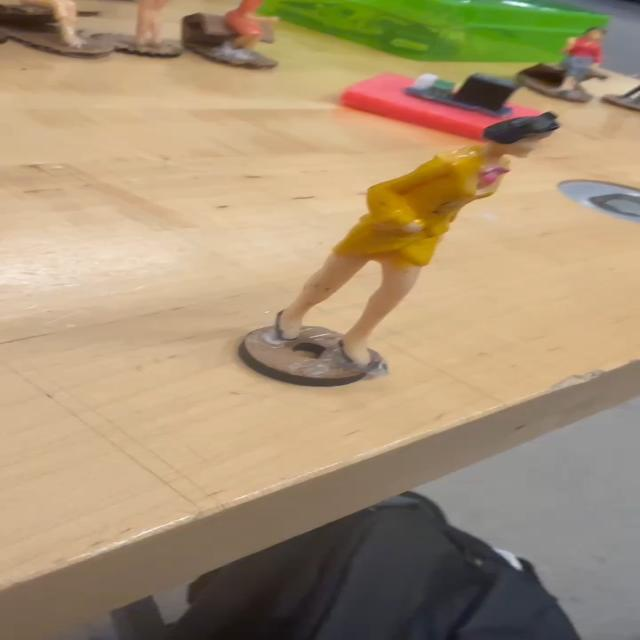Authorized: (258, 99, 584, 373)
